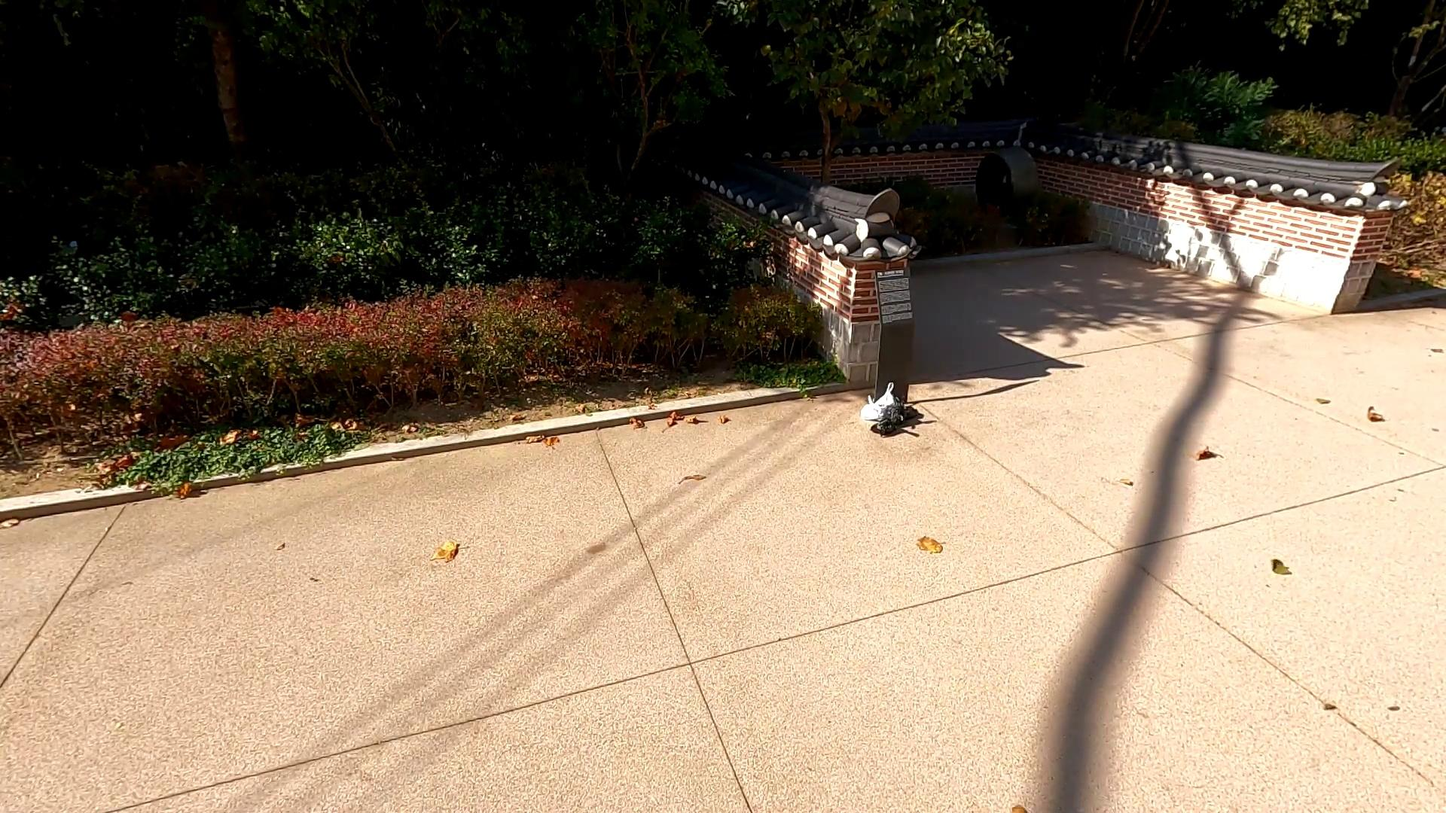trash: (874, 382, 896, 419), (859, 394, 885, 421), (886, 394, 906, 423), (875, 415, 896, 434)
